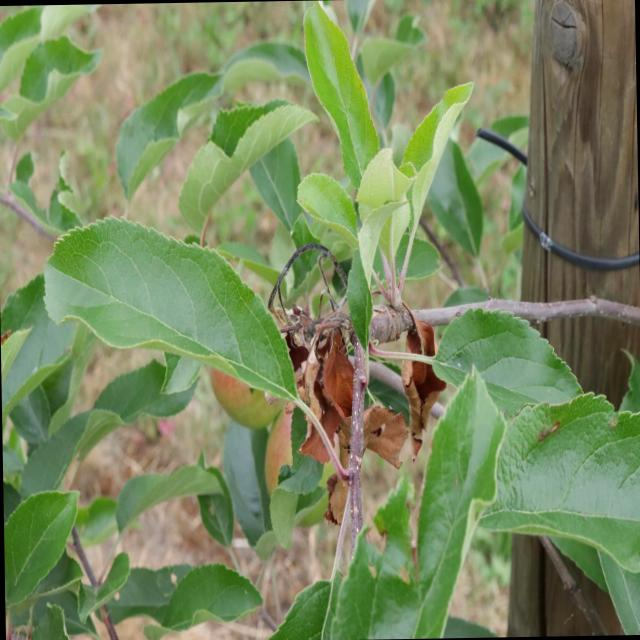-FireBlight-: (278, 302, 447, 468)
